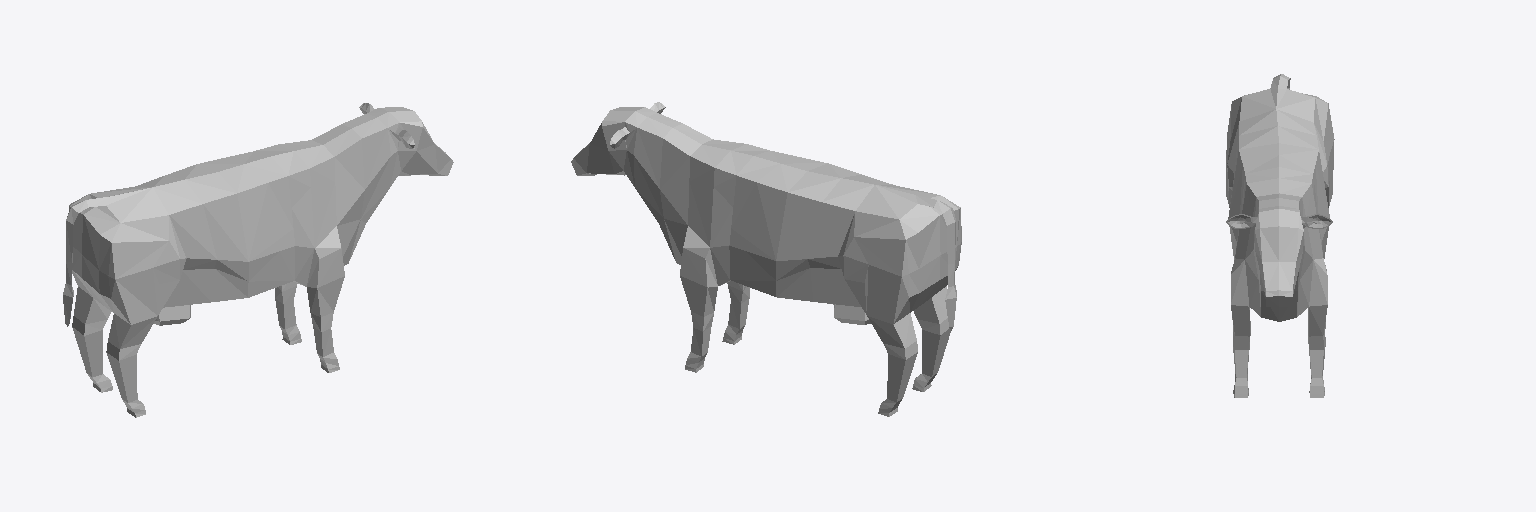
File: Cow.obj
3 views of the same model, side by side, from view 1: azimuth 30°, elevation 25°; view 2: azimuth 150°, elevation 25°; view 3: azimuth 270°, elevation 25° (orthographic).
Size of the model in its own units: 3.49 by 1.96 by 0.8615.